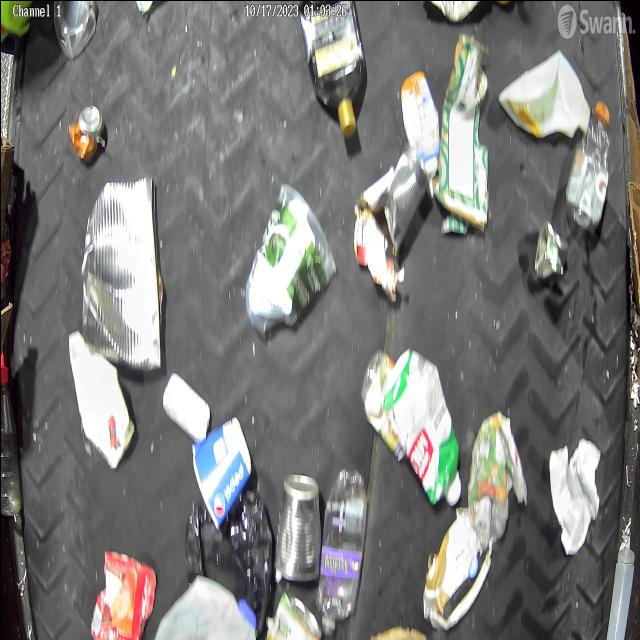can: (80, 175, 162, 372), (275, 474, 323, 584), (381, 150, 429, 250), (67, 105, 105, 165), (534, 221, 568, 279)
milk_jug: (498, 47, 590, 136), (146, 575, 257, 640)
plastic_bottle: (316, 468, 366, 634), (566, 106, 610, 234)
